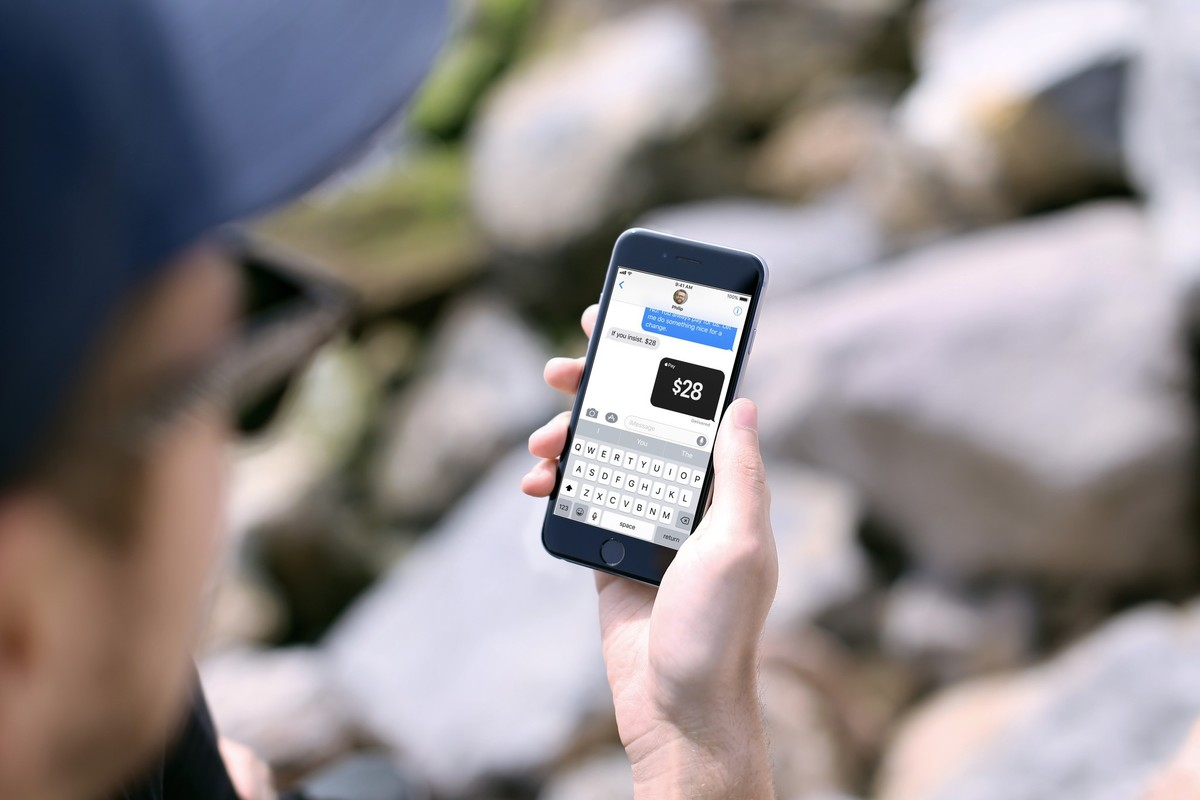smartphone: (540, 225, 770, 588)
